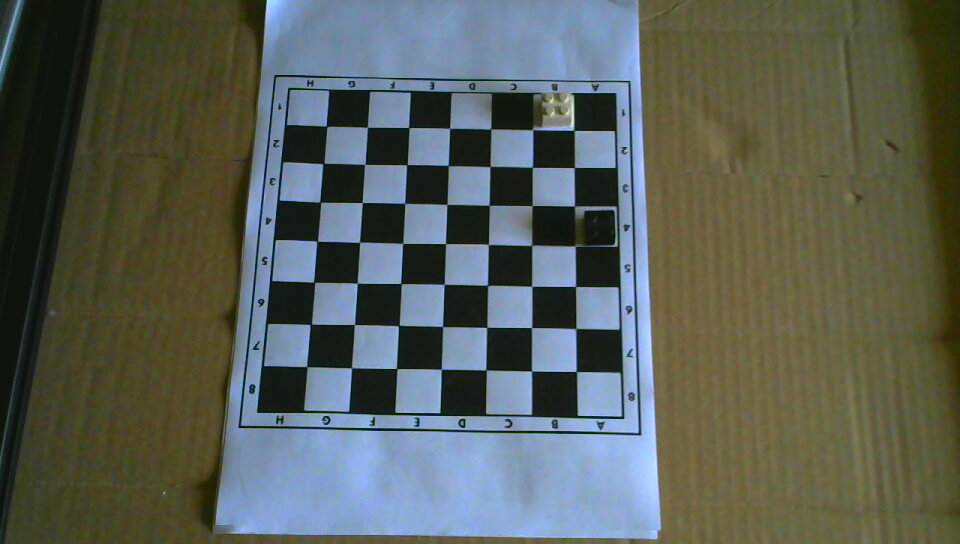bp: (582, 208, 617, 246)
wp: (540, 92, 573, 129)
